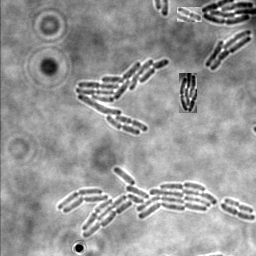Dividing: (219, 204, 255, 222), (223, 199, 253, 215), (177, 7, 202, 22)
Microcolony: (57, 167, 216, 238), (75, 59, 169, 136), (204, 30, 251, 72), (200, 1, 255, 26), (179, 73, 197, 113)
